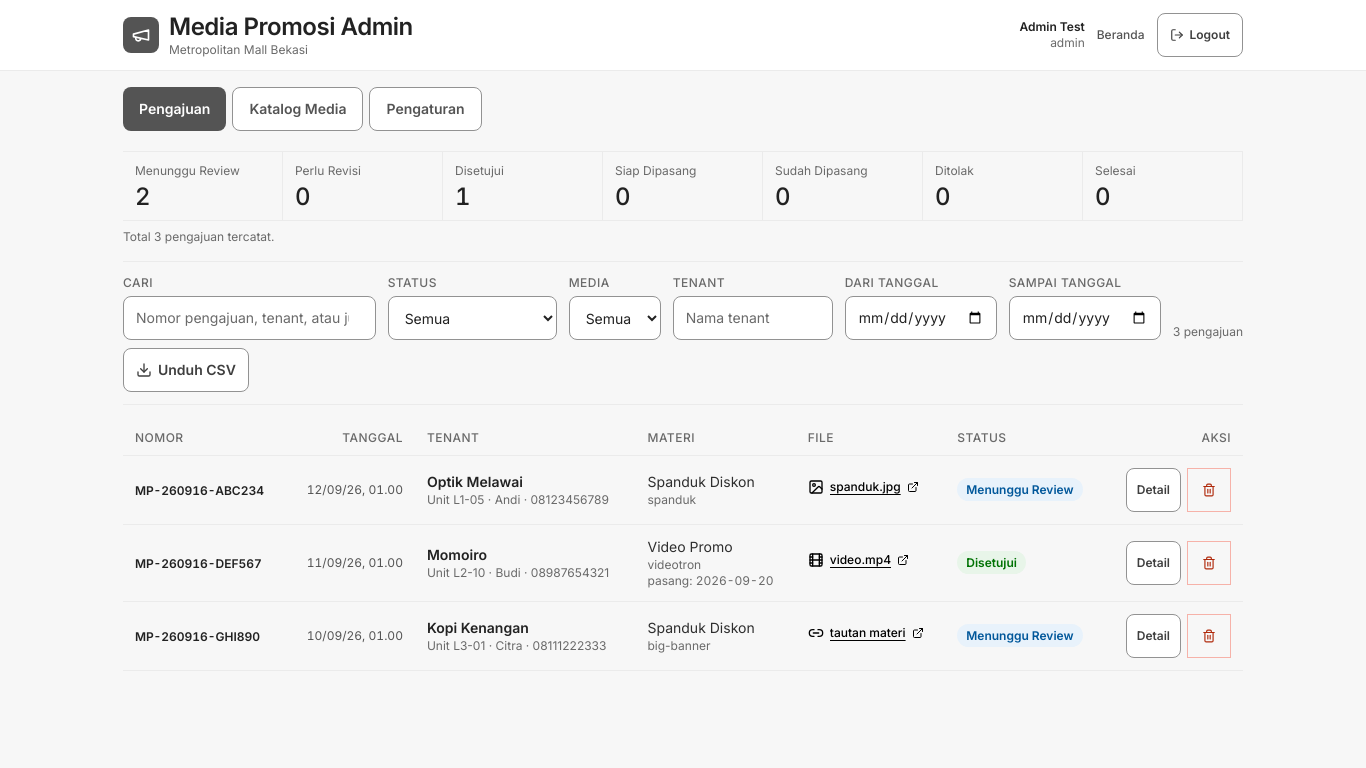
Test: AdminDashboardPage › modal detail menampilkan riwayat status dan versi materi (FR-030, FR-031)
This screenshot has width=1366, height=768.
Check: the text "Optik Melawai" is shown, box [427,472,523,490]
Click the button "Detail" in the row of "MP-260916-ABC234": (1153,490) [1126,468,1181,512]
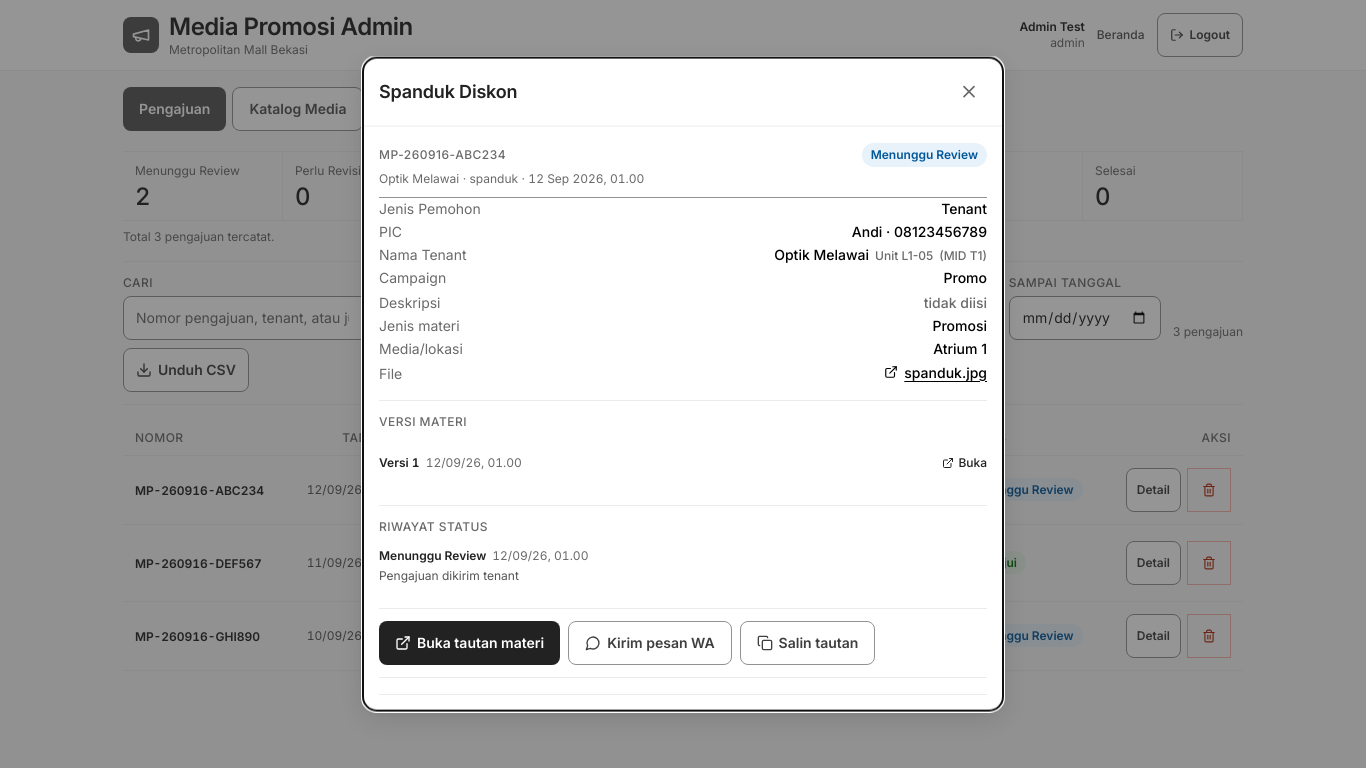
Check: the text "Riwayat status" is shown, box [379,519,488,534]
Check: the text "Versi materi" is shown, box [379,414,467,429]
Check: the text "Versi 1" is shown, box [379,455,420,470]
